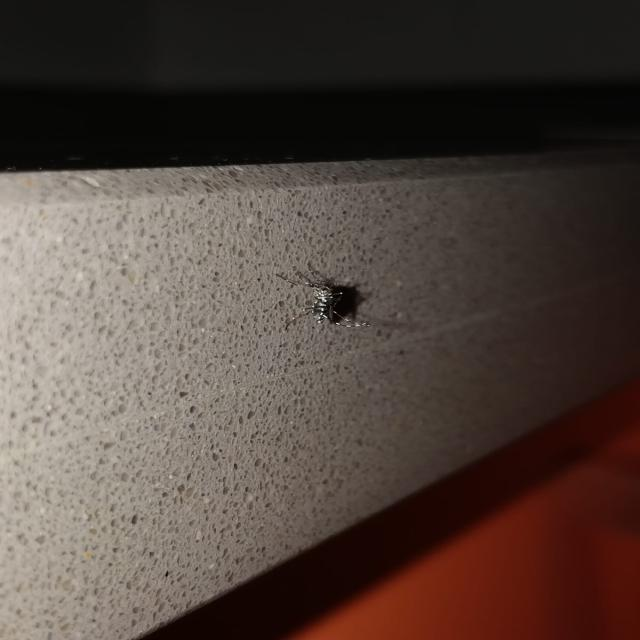albopictus: (267, 260, 382, 339)
